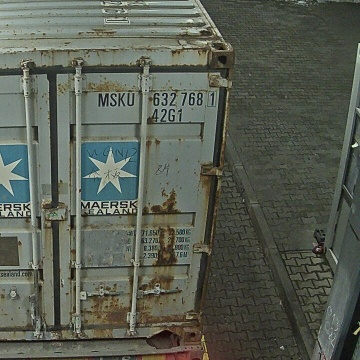serial_id: (98, 92, 215, 106)
